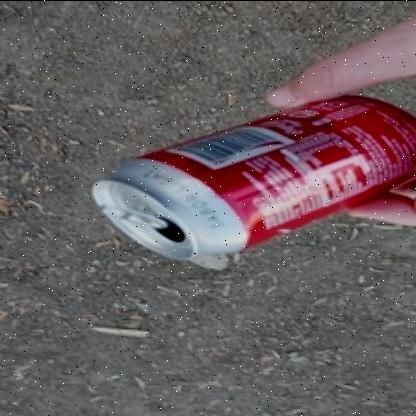Can: (88, 93, 416, 261)
